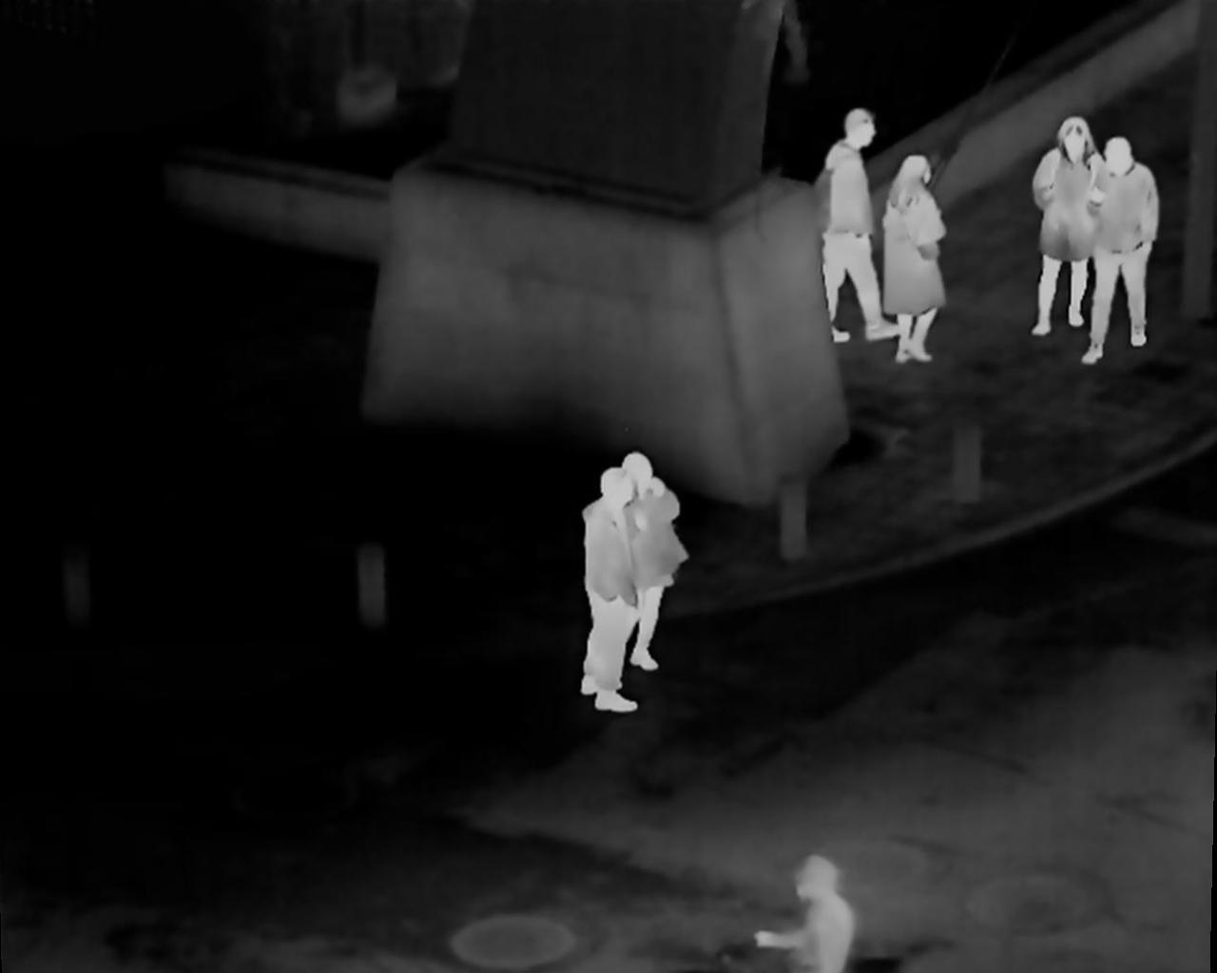person: (825, 105, 891, 358), (576, 478, 641, 709), (1091, 139, 1150, 362), (1039, 120, 1097, 340), (887, 154, 948, 363), (755, 850, 857, 973), (627, 448, 668, 665)
